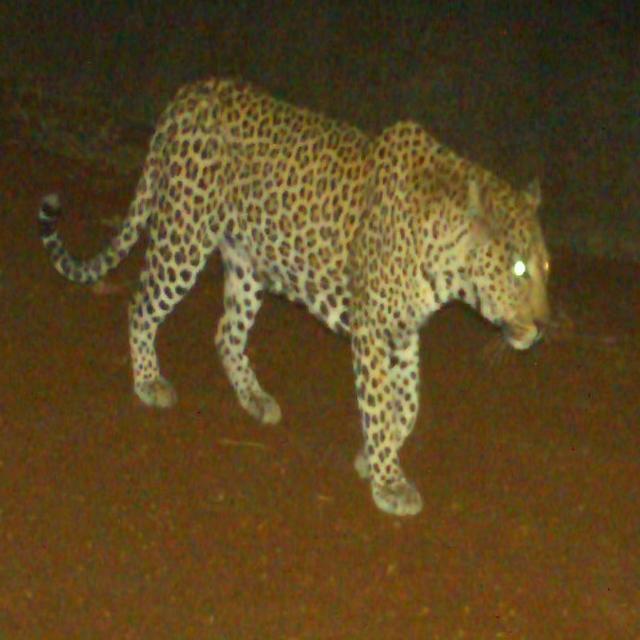Leopard: (34, 82, 542, 474)
